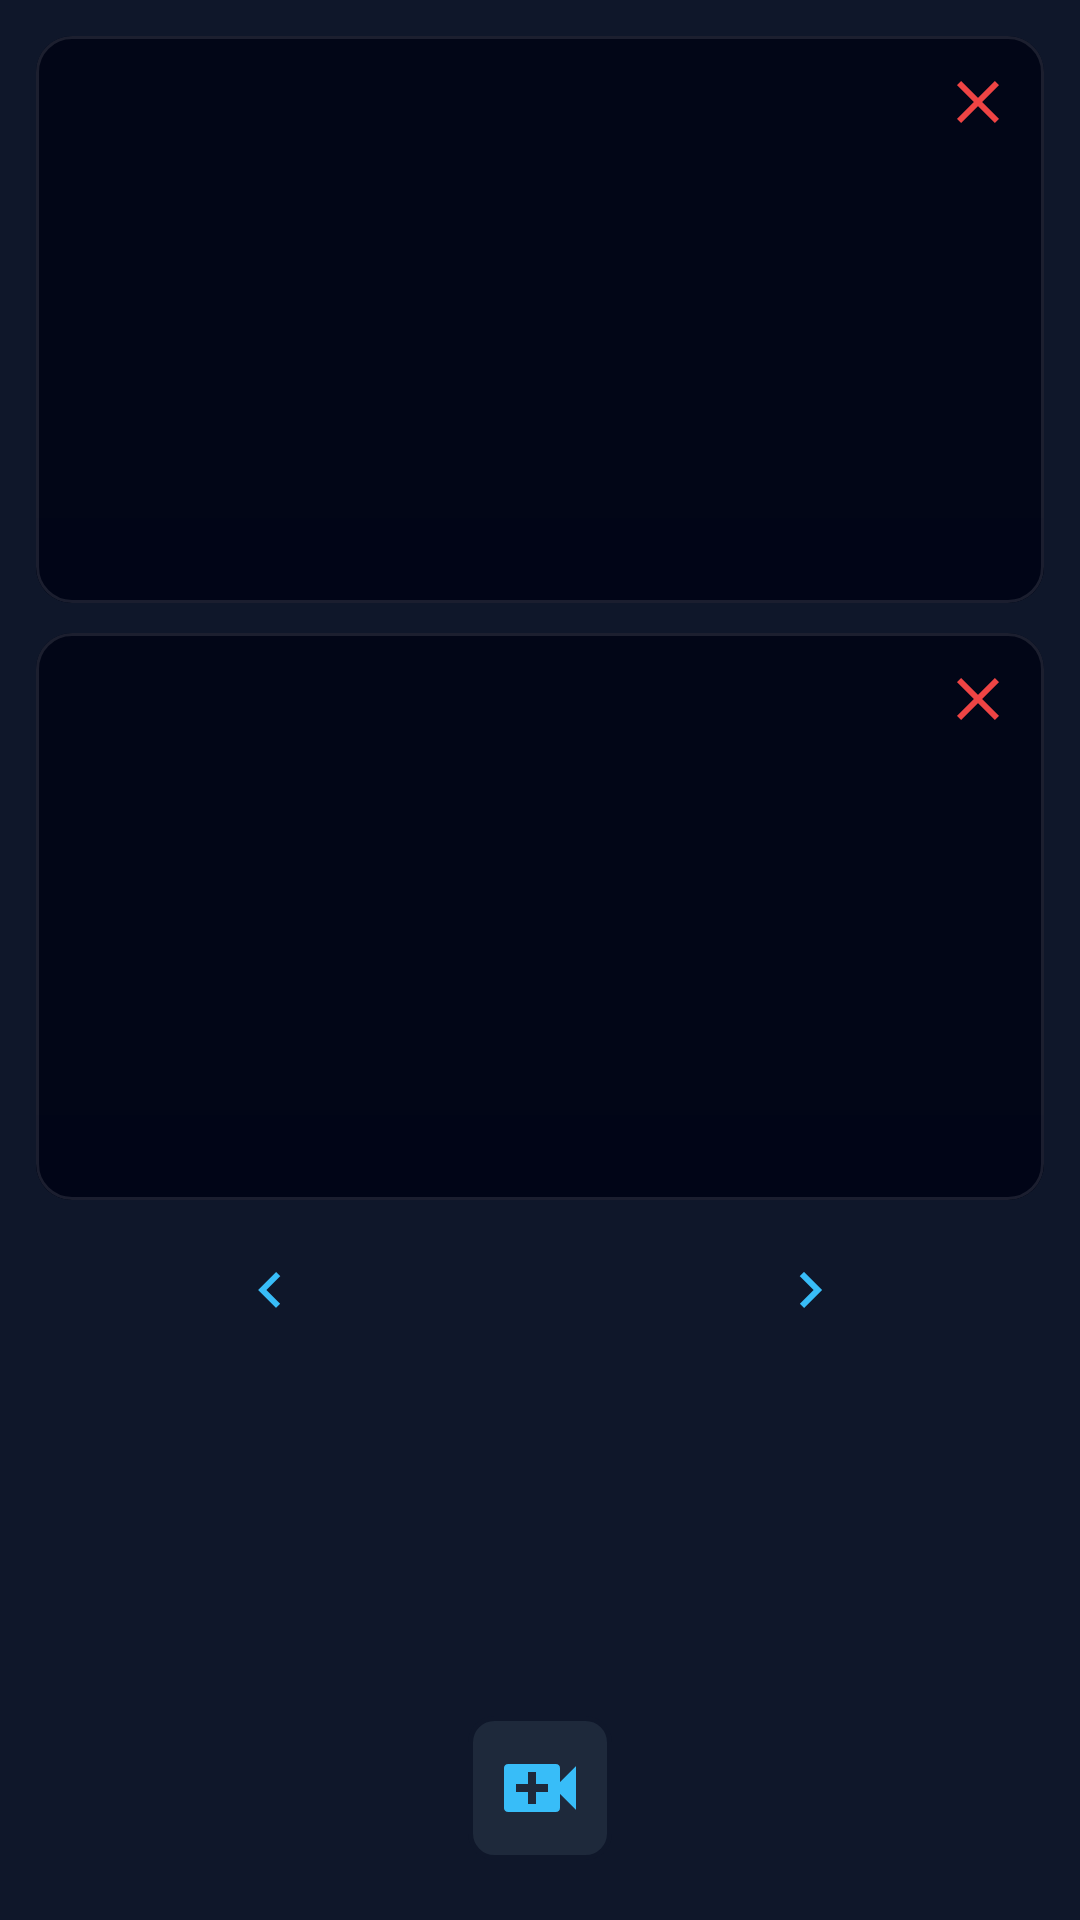

Locate icon controls on the screen. Image size 1080w x 1920h, boxes as {"x1": x1, "y1": y1, "x2": x2, "y2": y2}.
Pagina anterior: {"x1": 258, "y1": 1272, "x2": 280, "y2": 1308}
Pagina siguiente: {"x1": 800, "y1": 1272, "x2": 822, "y2": 1308}
Quitar camara: {"x1": 957, "y1": 81, "x2": 999, "y2": 123}, {"x1": 957, "y1": 678, "x2": 999, "y2": 720}
